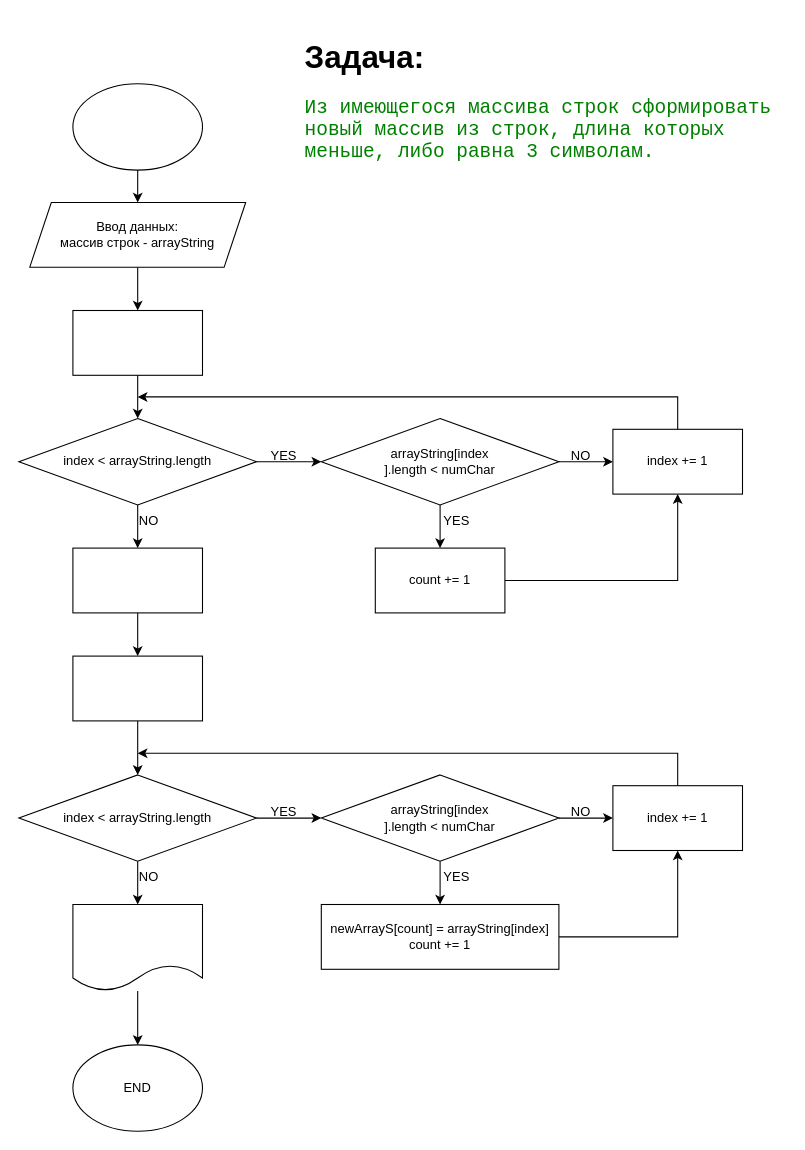
Some shapes in this 805 by 1150 pixel diagram are drawn without their labels. The box of each missing label's shape, as (x1, y1, x2, y2) in pixels:
BEGIN: (72, 83, 202, 170)
count = 0 index = 0: (72, 655, 202, 721)
index = 0 count = 0 numChar = 3: (72, 309, 202, 375)
newArrayS[count]: (72, 547, 202, 613)
Вывод данных: newArrayS: (72, 903, 202, 991)
